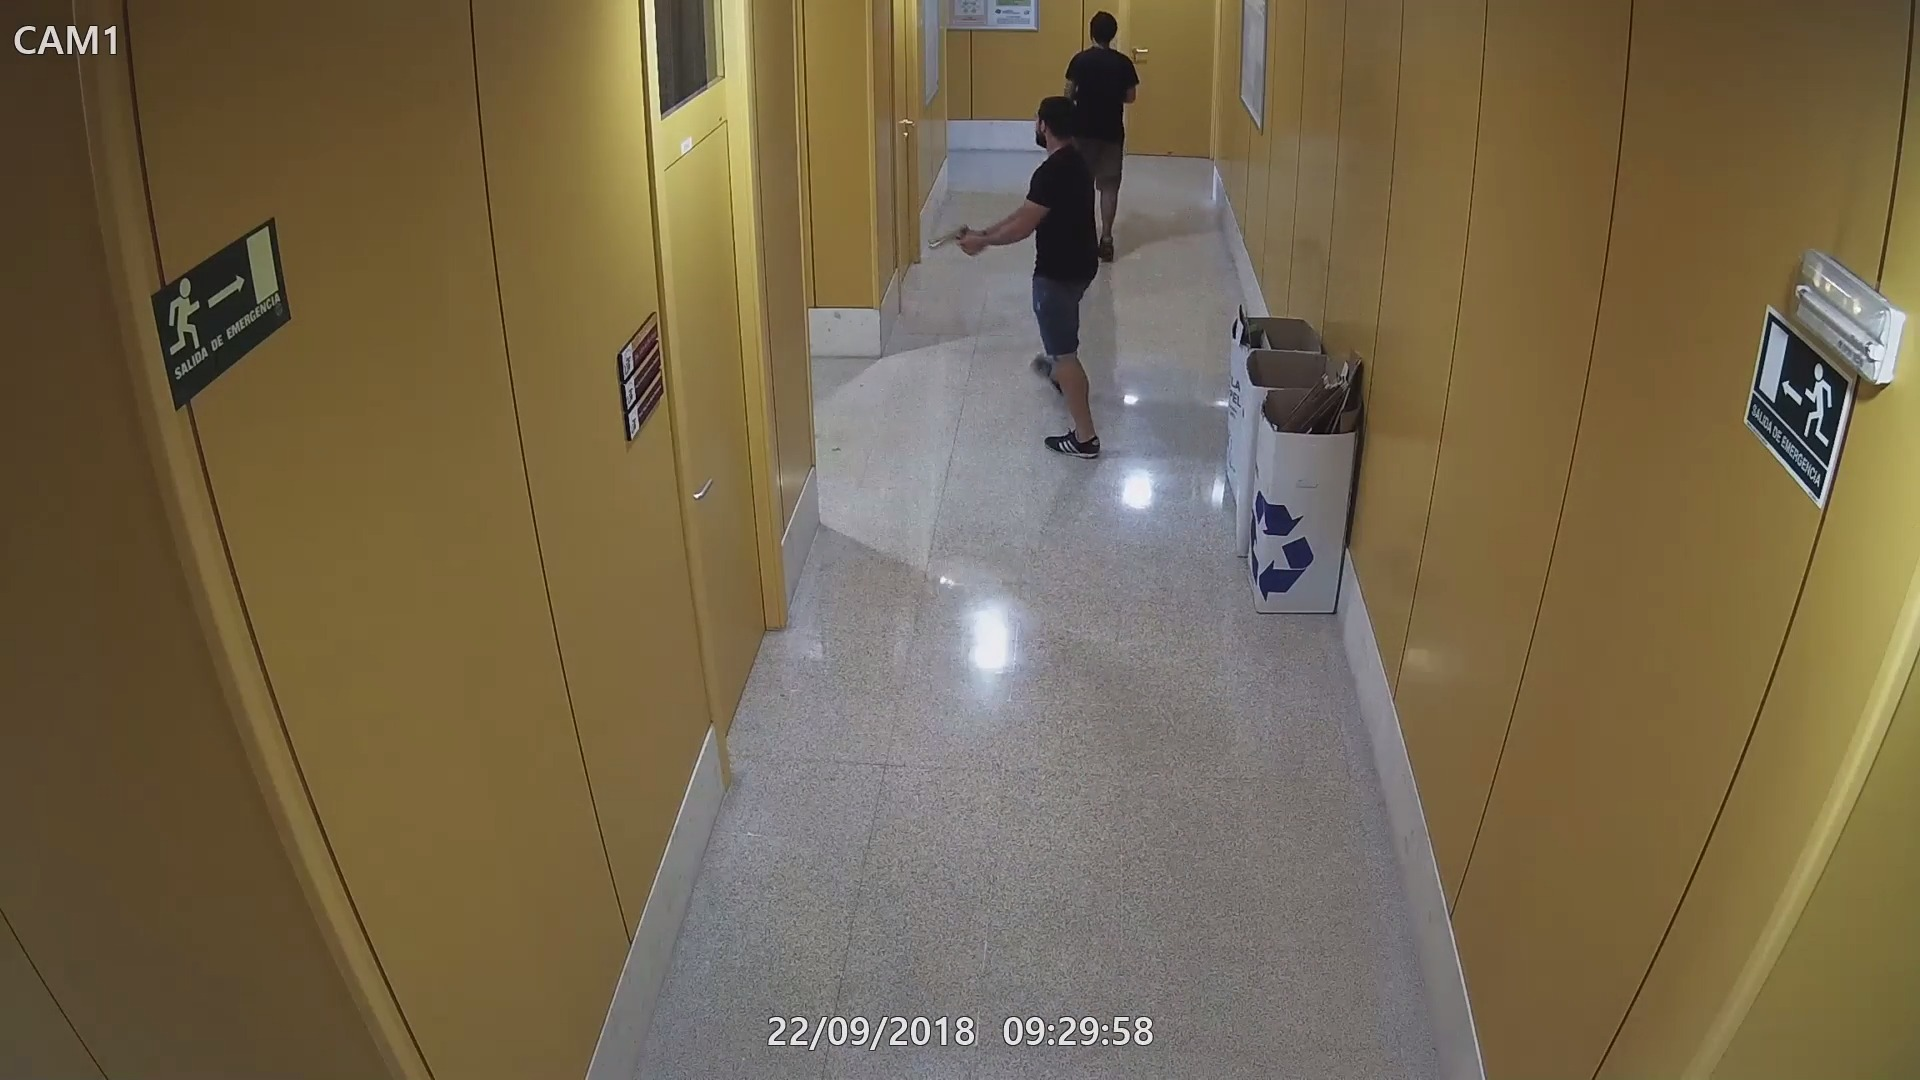Handgun: (926, 224, 990, 257)
